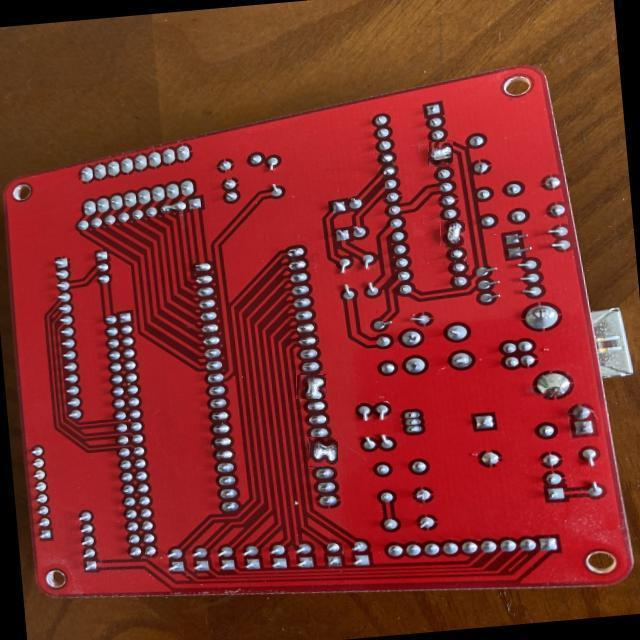damged: (308, 438, 338, 467), (296, 374, 326, 399), (440, 220, 465, 247), (428, 142, 453, 167), (159, 201, 186, 215)
